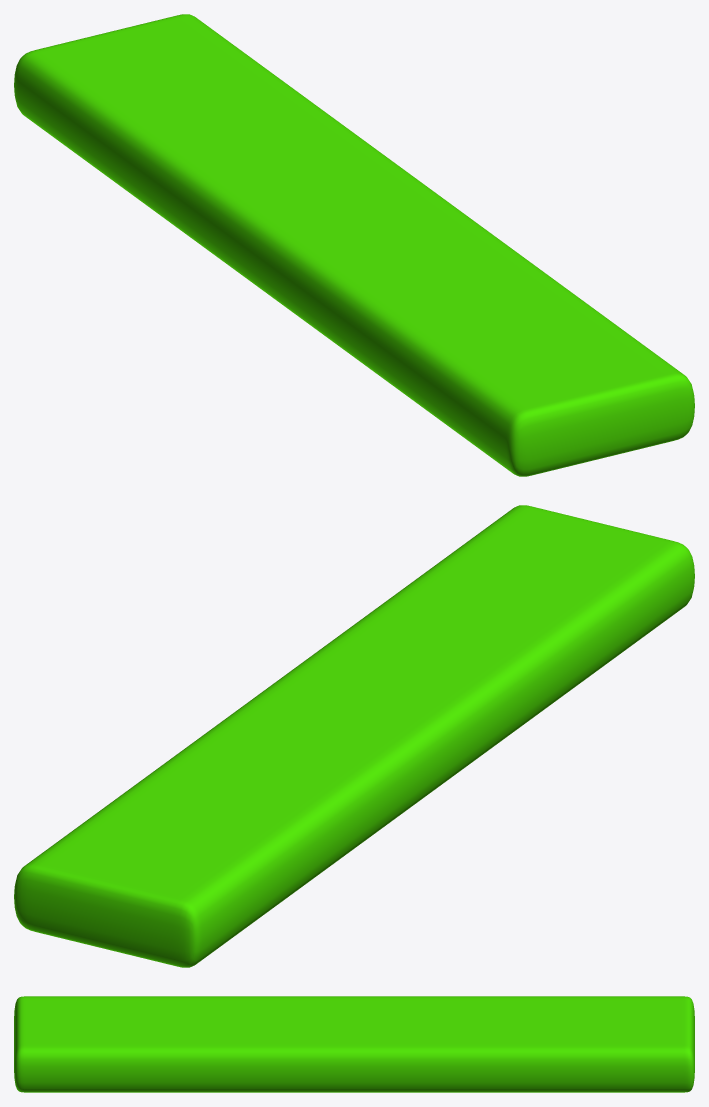
File: Ground.fbx
The picture shows the model from 3 angles, top to bottom: view 1: azimuth 30°, elevation 25°; view 2: azimuth 150°, elevation 25°; view 3: azimuth 270°, elevation 25°; orthographic projection. The views are drawn at different scales.
Parts seen in each view (by area): view 1: Ground; view 2: Ground; view 3: Ground.
Part boxes in pixels (x1,y1,x2,y2): Ground: (14,14,694,476); Ground: (14,505,694,967); Ground: (14,996,694,1092).
Size of the model in its own units: 594 by 2796 by 200.
